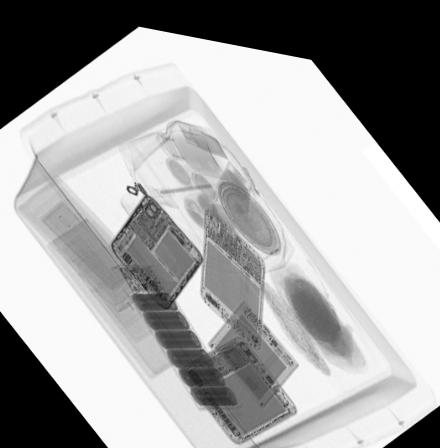Powerbank: (107, 259, 247, 406), (204, 289, 301, 399)
